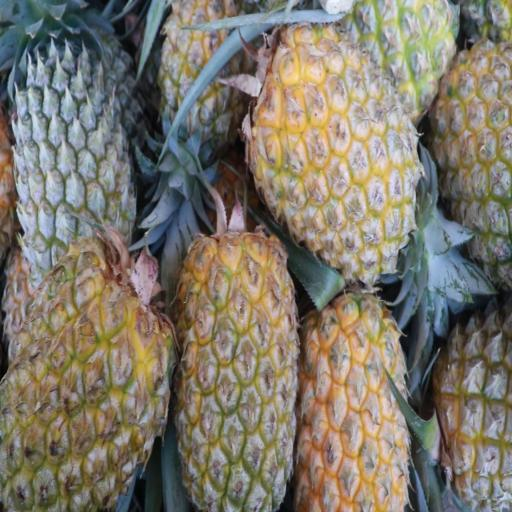------------------------------: (159, 0, 252, 149)
Pineapple - v8 v1: (0, 244, 175, 512), (259, 14, 423, 275), (178, 235, 295, 508), (299, 293, 405, 512), (359, 0, 456, 112)
